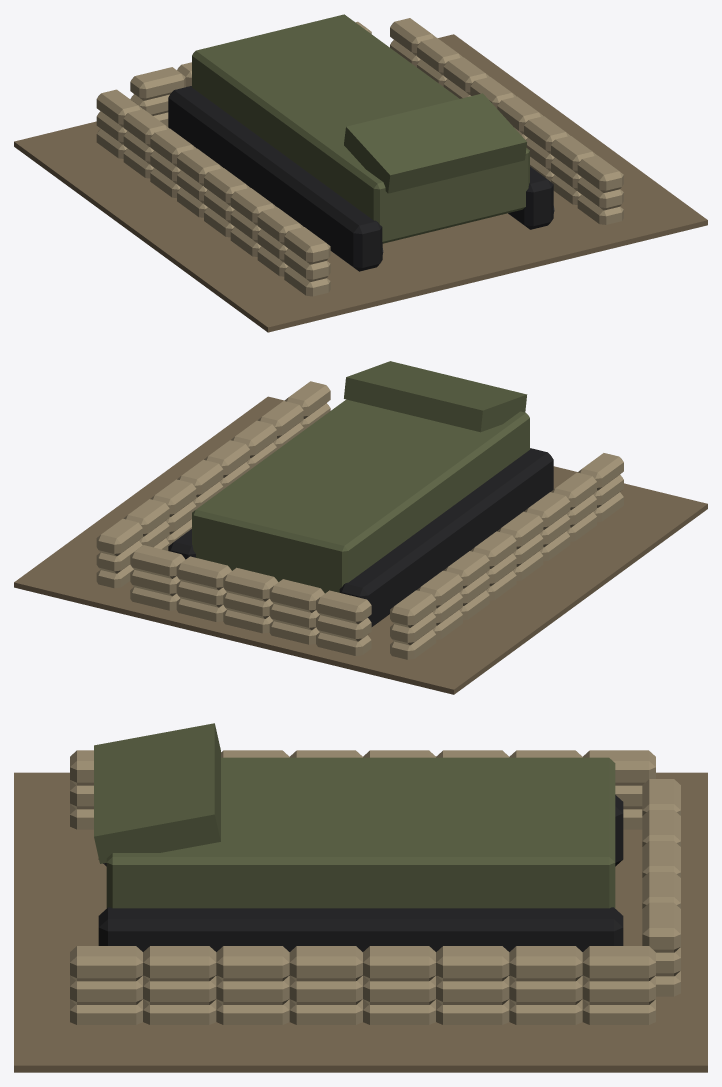
The model's file is aagun.glb.
3 views of the same model, one above another, from view 1: azimuth 30°, elevation 25°; view 2: azimuth 150°, elevation 25°; view 3: azimuth 270°, elevation 25° (orthographic). The views are drawn at different scales.
Visible parts, largest first — view 1: aagun; view 2: aagun; view 3: aagun.
Part boxes in pixels (x1=…): aagun: x1=14, y1=14, x2=707, y2=332; aagun: x1=14, y1=361, x2=707, y2=694; aagun: x1=14, y1=723, x2=707, y2=1072.
Size of the model in its own units: 9 by 2.39 by 9.
